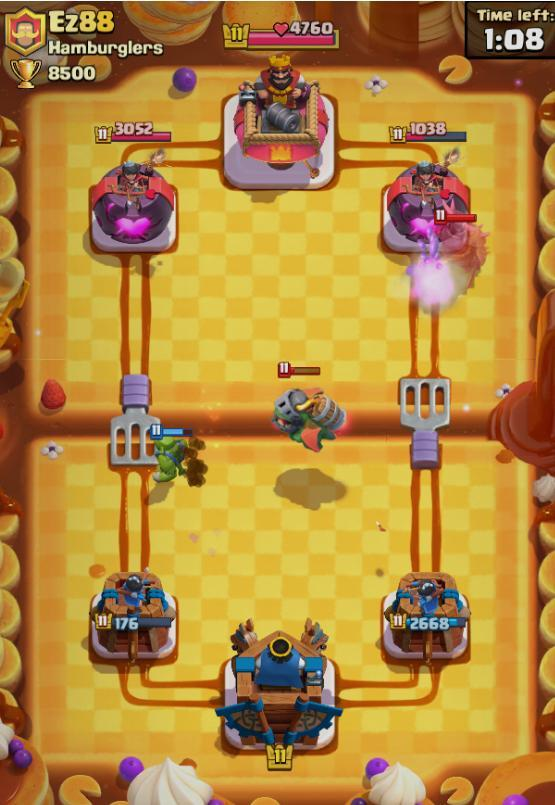EBigPekka: (435, 222, 487, 287)
EInfernoDrag: (274, 389, 345, 451)
EKingTower: (224, 55, 334, 189)
EnemyPrincessTower: (382, 161, 476, 252), (90, 160, 175, 253)
OBrawler: (150, 424, 206, 486)
OwnKingTower: (216, 619, 341, 750)
OwnPrincessTower: (89, 569, 176, 662), (382, 572, 469, 663)
